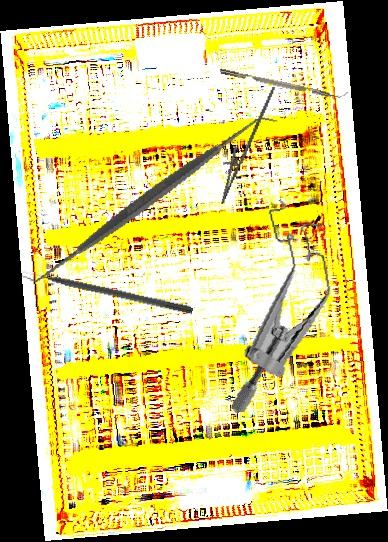Chopper: (219, 62, 350, 103)
Needle Holder: (211, 79, 276, 209)
Pusher: (19, 265, 194, 315)
Spatula Surgical: (21, 68, 279, 330)
Speculum: (197, 192, 353, 415)
